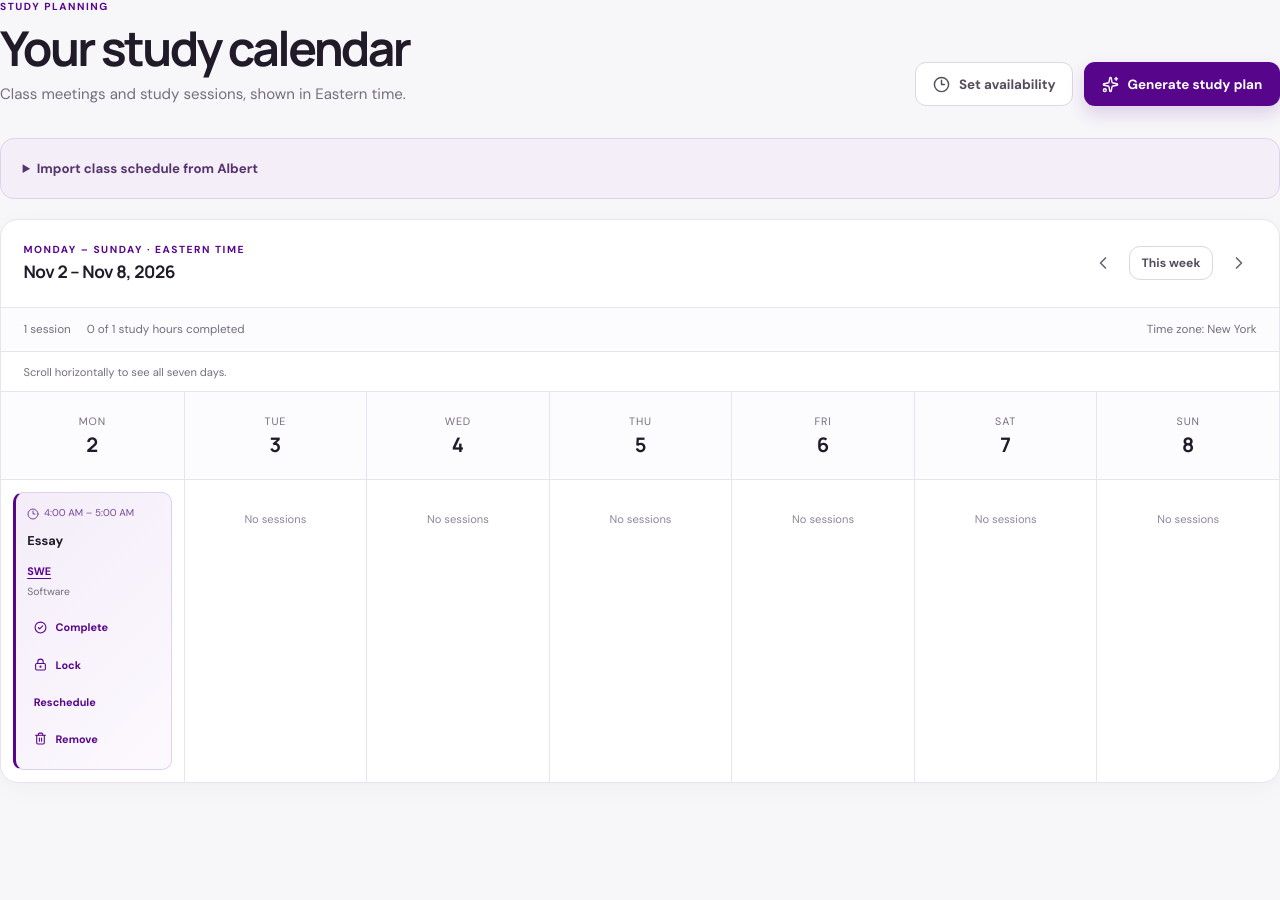
Test case: cancel closes an Eastern-prefilled editor without sending a mutation
The width and height of the screenshot is (1280, 900).
Click the button with aria-label "Reschedule Essay".
click(65, 702)  # box [27,685,102,719]
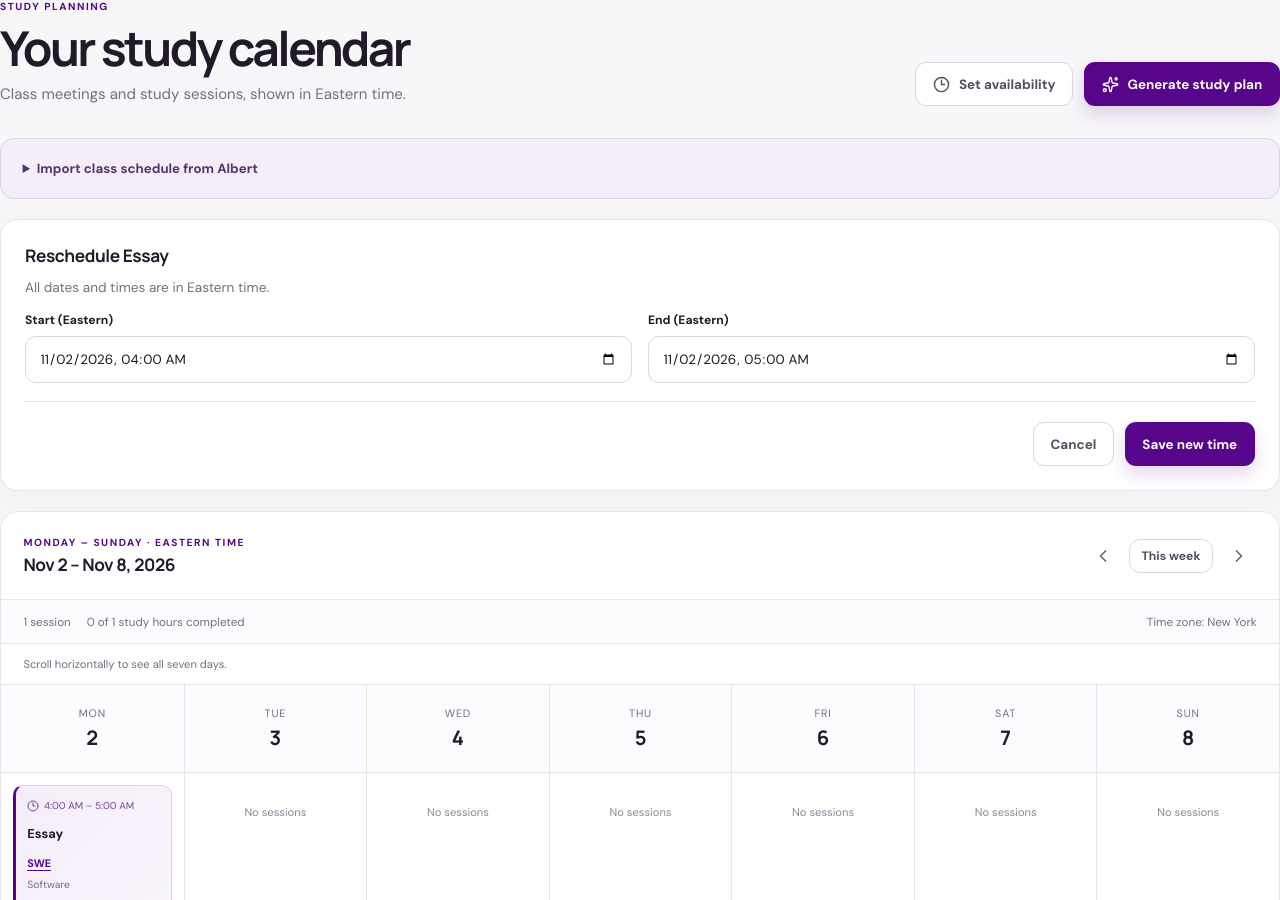
Expected: the field labelled "Start (Eastern)" holds "2026-11-02T04:00"
Replace the text in the field labelled "Start (Eastern)" with "2026-11-03T10:00" at (328, 359), box [25,336,632,383]
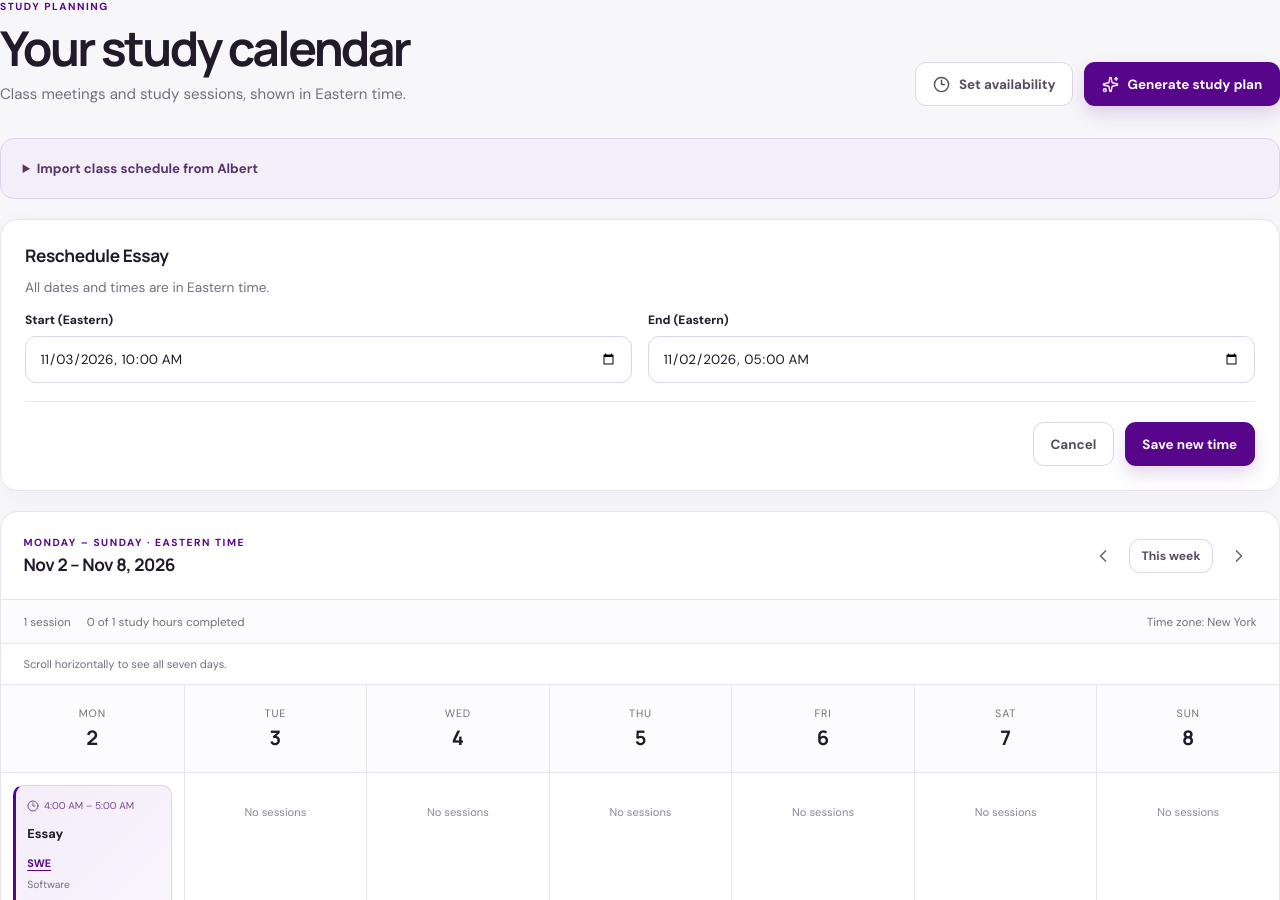
Replace the text in the field labelled "End (Eastern)" with "2026-11-03T11:00" at (952, 359), box [648,336,1255,383]
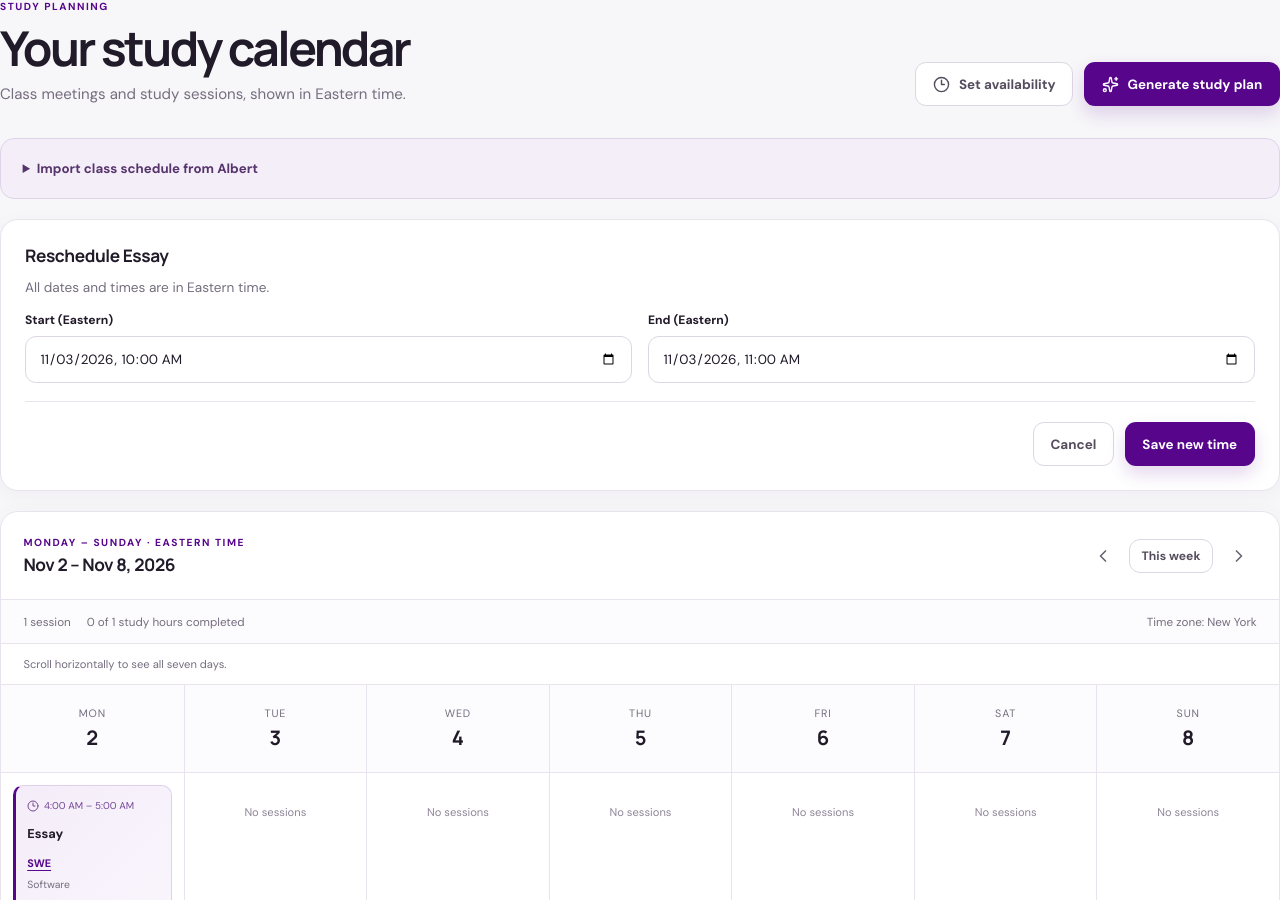
Click the button "Cancel".
click(1073, 444)  # box [1033,422,1114,466]
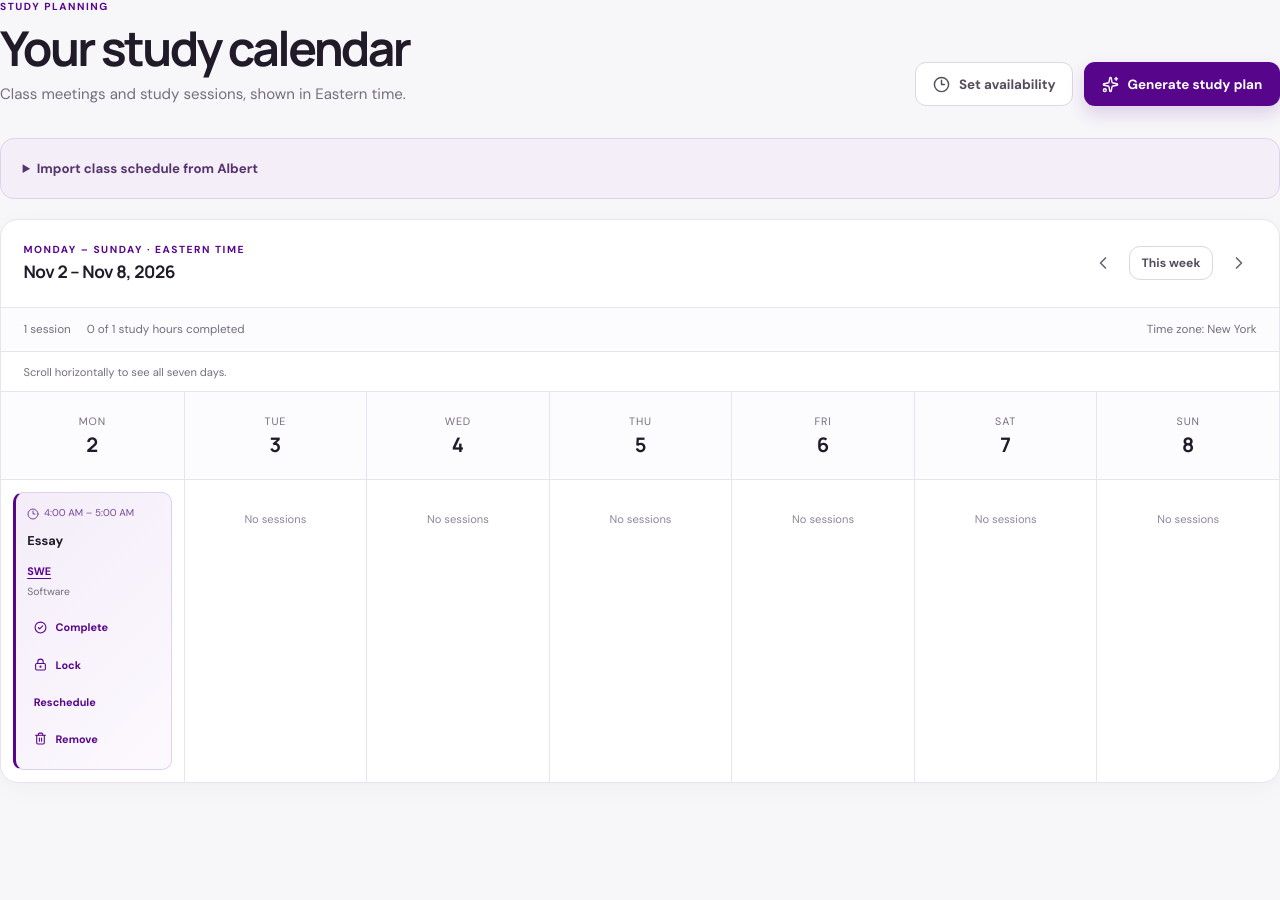
Expected: the text labelled "Start (Eastern)" is gone
